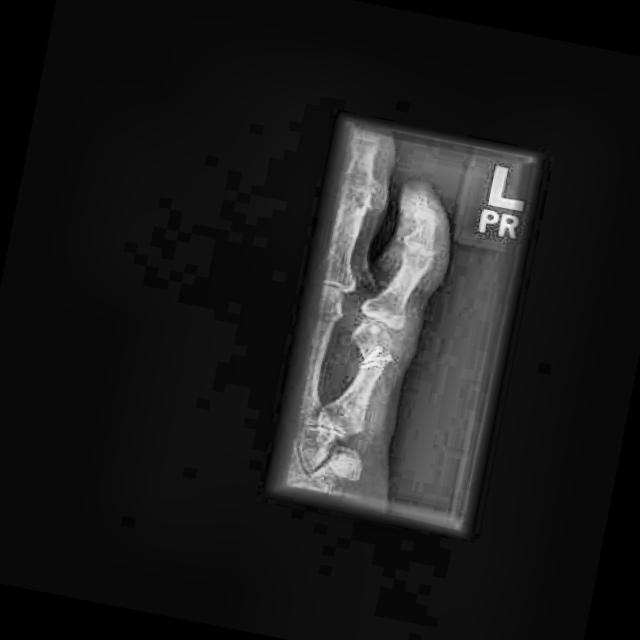fingers positive: (355, 340, 404, 379)
